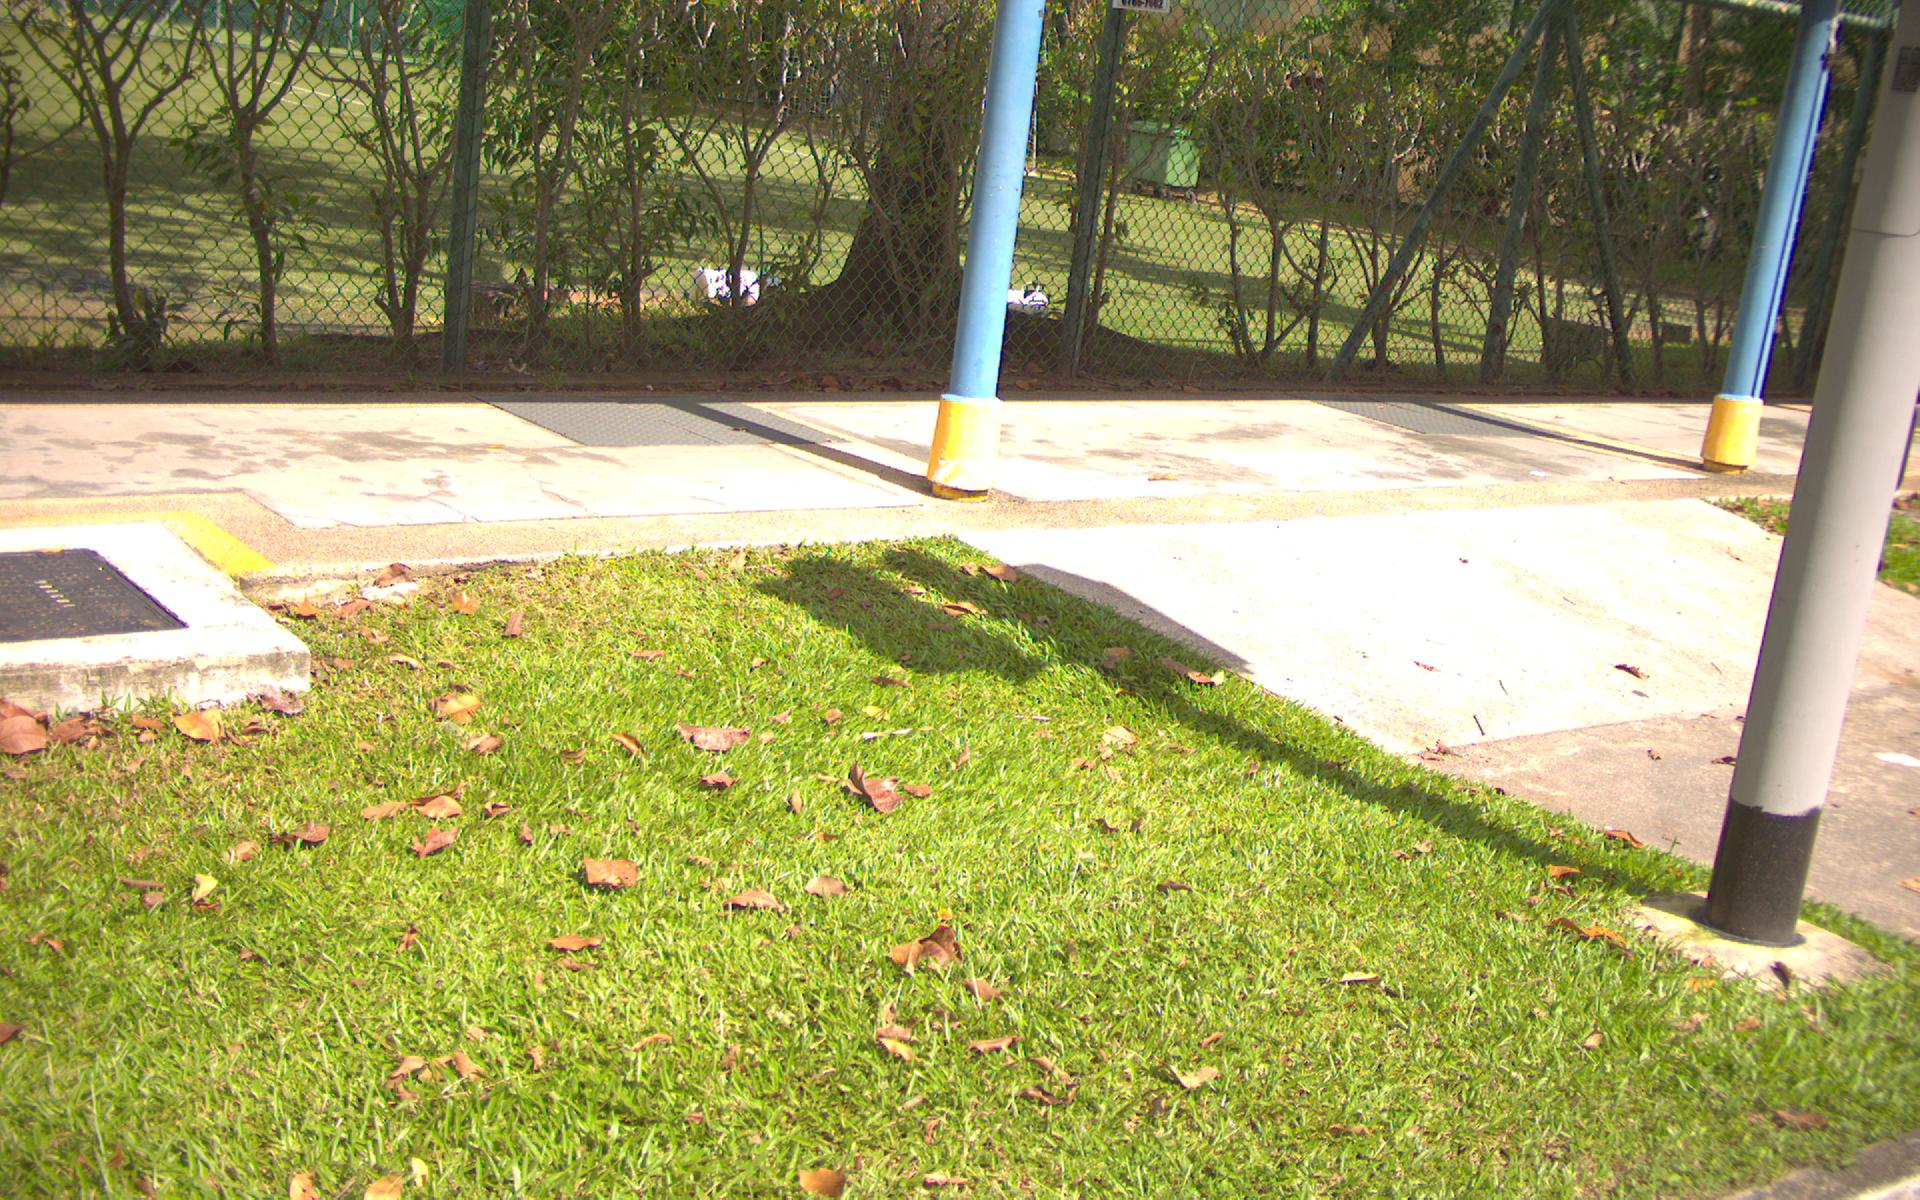pathway_low: (28, 401, 1841, 492)
road_turf_low: (6, 625, 1121, 1200)
